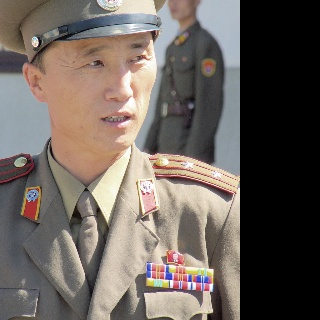without_mask: (39, 38, 158, 154), (167, 0, 193, 17)
